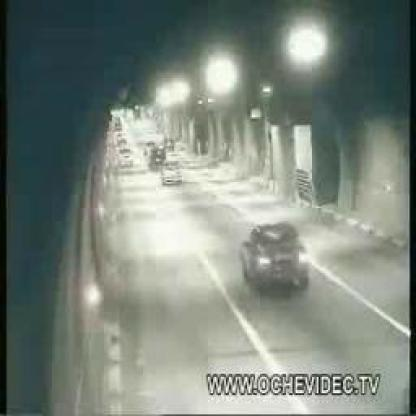other: (144, 220, 199, 250), (151, 77, 193, 113), (207, 55, 241, 99), (285, 27, 330, 60), (82, 280, 106, 307)
